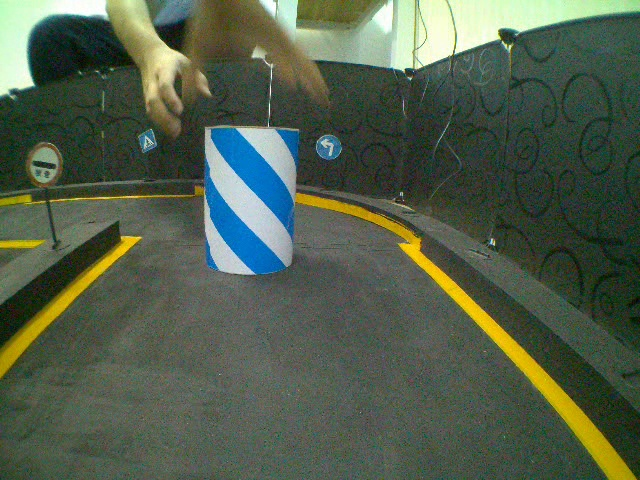bucket: (204, 124, 298, 278)
